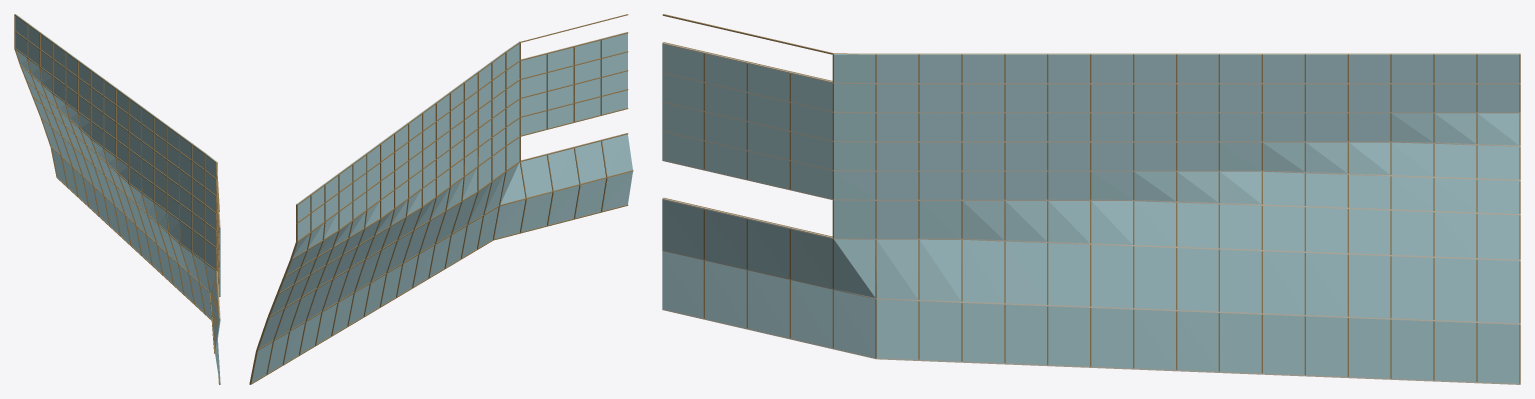
The model's file is G7_Completion_R005_Body_1_07.glb.
The picture shows the model from 3 angles, left to right: view 1: azimuth 30°, elevation 25°; view 2: azimuth 150°, elevation 25°; view 3: azimuth 270°, elevation 25°; orthographic projection. The views are drawn at different scales.
Visible parts, largest first — view 1: Body_1_07_G7C3_glass_solid_skin, Body_1_07_G7C3_metal_solid_frame; view 2: Body_1_07_G7C3_glass_solid_skin, Body_1_07_G7C3_metal_solid_frame; view 3: Body_1_07_G7C3_glass_solid_skin, Body_1_07_G7C3_shell_solid_skin, Body_1_07_G7C3_metal_solid_skin, Body_1_07_G7C3_metal_solid_frame.
Part boxes in pixels (x1,y1,x2,y2): Body_1_07_G7C3_glass_solid_skin: [15, 14, 220, 384]; Body_1_07_G7C3_metal_solid_frame: [14, 14, 219, 384]; Body_1_07_G7C3_glass_solid_skin: [251, 33, 632, 382]; Body_1_07_G7C3_metal_solid_frame: [250, 14, 633, 384]; Body_1_07_G7C3_glass_solid_skin: [662, 44, 1519, 383]; Body_1_07_G7C3_shell_solid_skin: [662, 42, 1520, 384]; Body_1_07_G7C3_metal_solid_skin: [703, 54, 1520, 383]; Body_1_07_G7C3_metal_solid_frame: [662, 14, 1520, 236].
Size of the model in its own units: 26.47 by 45.5 by 120.
Materials: 3 (2 with a texture image).
